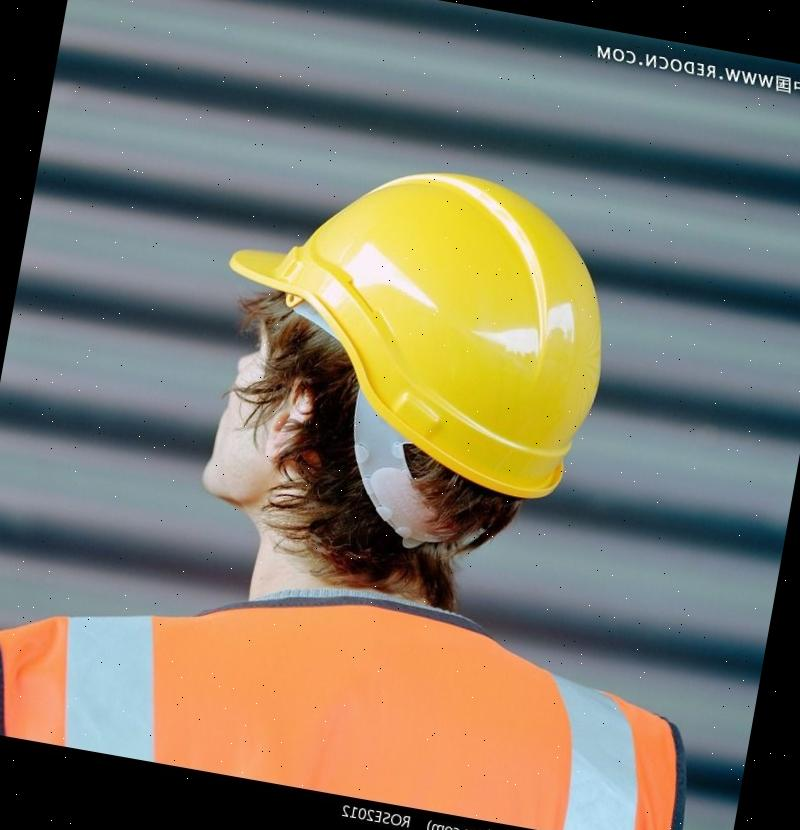helmet: (195, 128, 638, 507)
wear: (0, 543, 709, 830)
